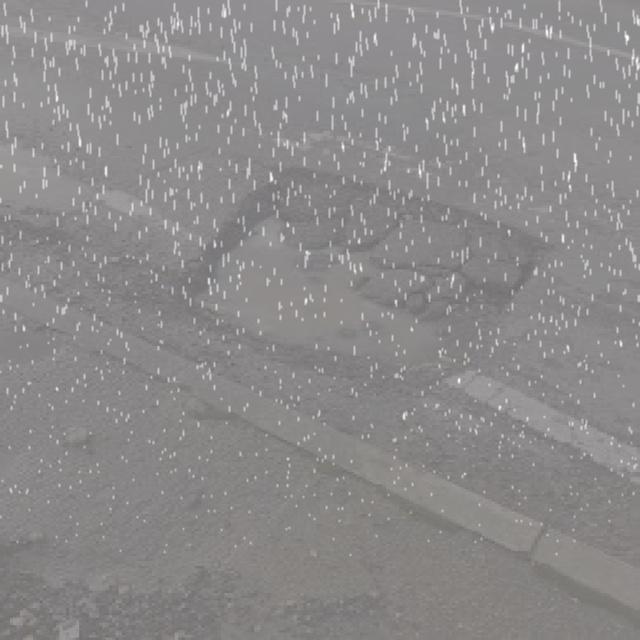Pothole: (166, 151, 566, 413)
